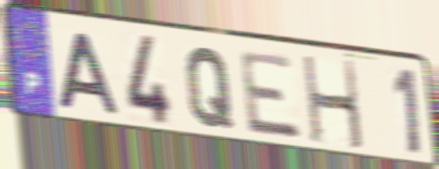1: (389, 67, 424, 159)
4: (123, 32, 174, 129)
A: (55, 29, 122, 118)
E: (236, 49, 305, 143)
H: (299, 53, 366, 153)
Q: (184, 44, 236, 131)
